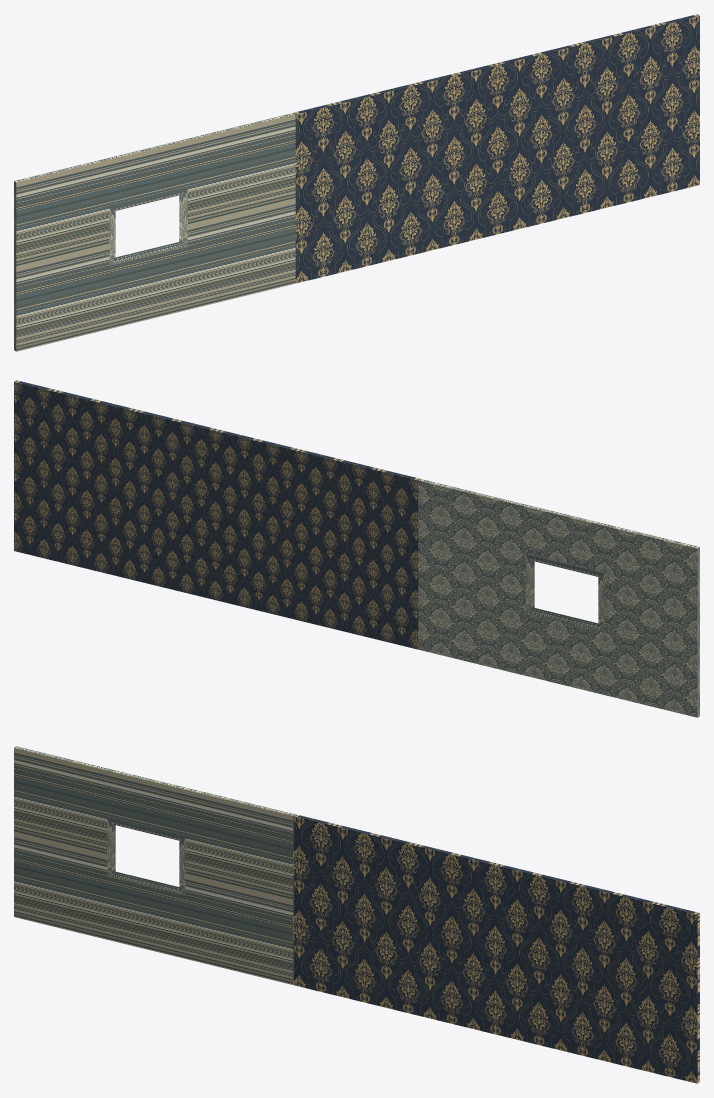
Rendered from Walls For kitchen and butlers room.fbx.
3 renders of one model, top to bottom at view 1: azimuth 30°, elevation 25°; view 2: azimuth 150°, elevation 25°; view 3: azimuth 330°, elevation 25°, orthographic.
Visible parts, largest first — view 1: pCube83, pCube1057; view 2: pCube83, pCube1057; view 3: pCube83, pCube1057.
Boxes of the visible parts, box(x1,y1,x2,y2) form: pCube83: box(293, 14, 699, 283); pCube1057: box(14, 113, 295, 351); pCube83: box(14, 380, 420, 649); pCube1057: box(418, 479, 699, 717); pCube83: box(293, 814, 699, 1083); pCube1057: box(14, 746, 295, 984).
Size of the model in its own units: 2170 by 513 by 13.06.
